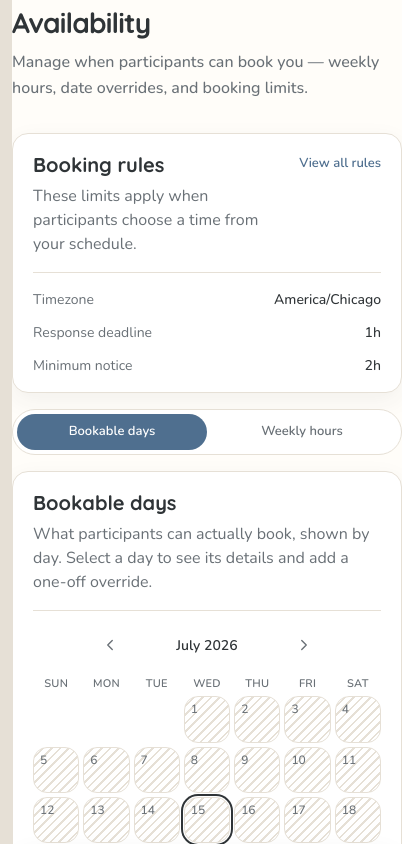
GuideAvailabilityPage — assembled v2.1 layout › mobile view switch flips between calendar and weekly, keeping both panels mounted
The image size is (402, 844).
Click the button "Weekly hours" at [302, 432], box [207,414,397,450]
(page scrolled)
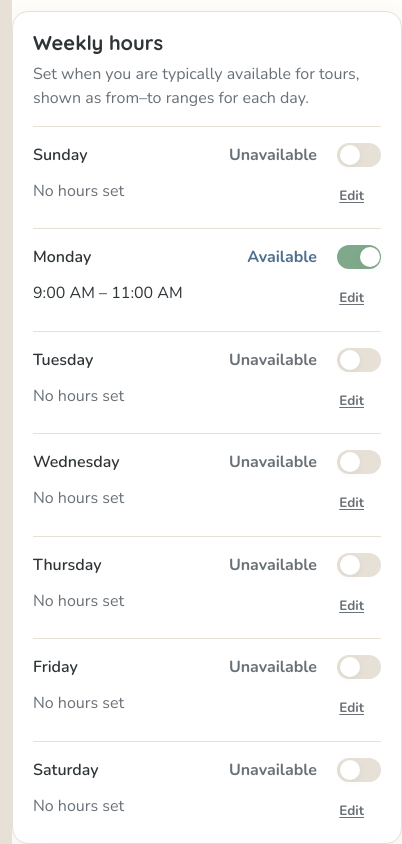
Result: the list named "weekly hours by day" is shown
